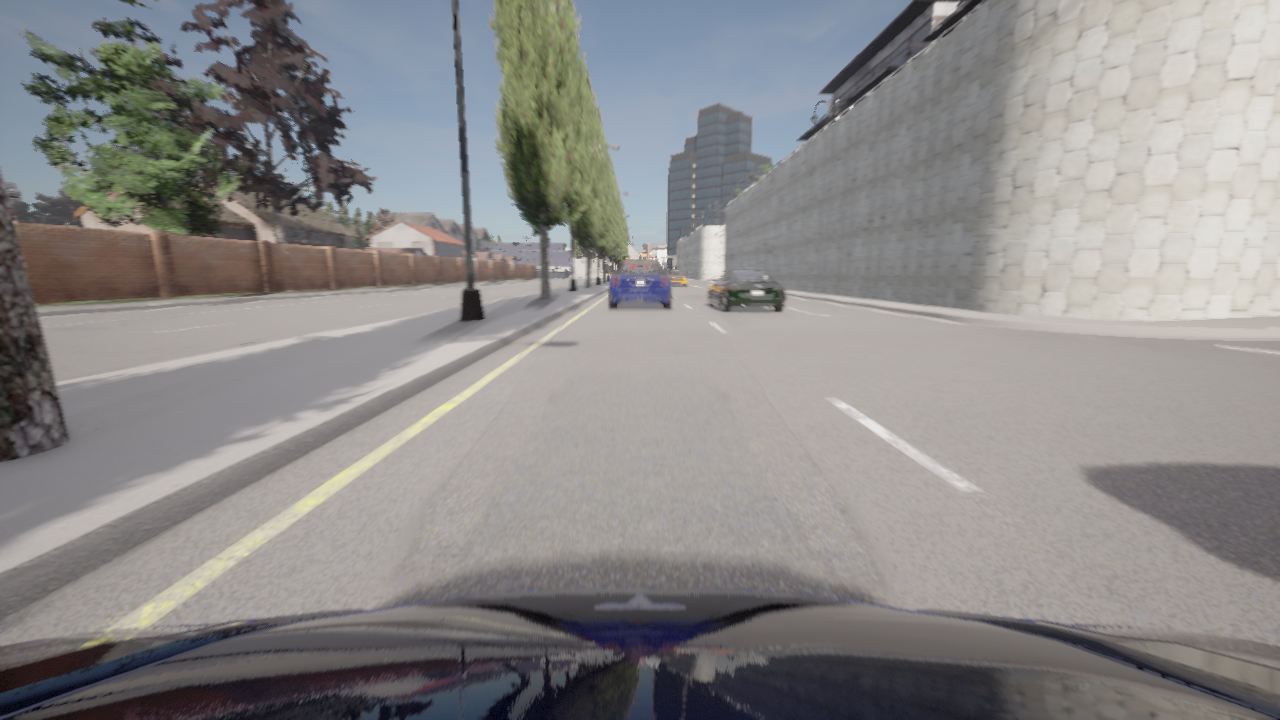cyclist: (0, 588, 1279, 719), (708, 269, 785, 312), (609, 259, 670, 308), (667, 270, 686, 285), (663, 269, 673, 272)
